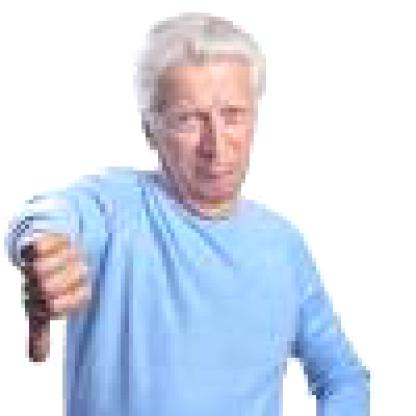Thumbs Down: (11, 223, 94, 361)
